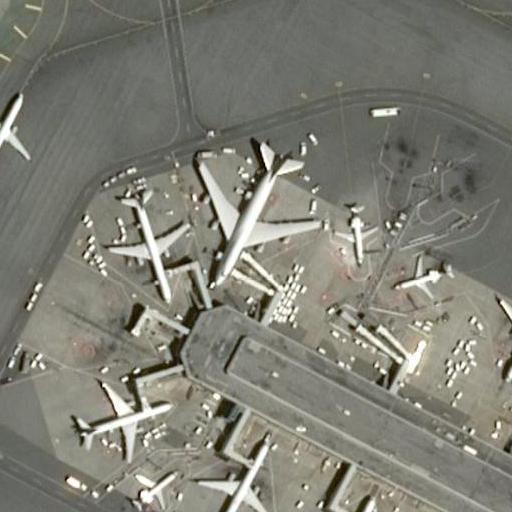Aircraft: (190, 134, 311, 285), (102, 185, 182, 307), (64, 373, 167, 455), (192, 439, 270, 512), (385, 249, 453, 304), (0, 83, 33, 178), (327, 202, 376, 260), (494, 274, 512, 381), (300, 493, 381, 512)
